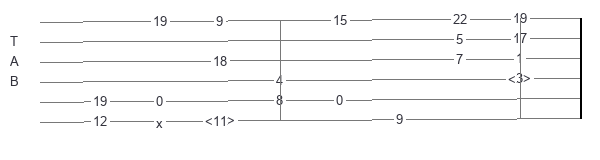0: (156, 93, 167, 107), (336, 93, 347, 107)
1: (516, 53, 527, 67)
12: (93, 113, 111, 127)
15: (333, 13, 351, 27)
17: (513, 33, 531, 47)
18: (213, 53, 231, 67)
19: (93, 93, 111, 107), (153, 13, 171, 27), (513, 13, 531, 27)
22: (453, 13, 471, 27)
4: (276, 73, 287, 87)
5: (456, 33, 467, 47)
7: (456, 53, 467, 67)
8: (276, 93, 287, 107)
9: (216, 13, 227, 27), (396, 113, 407, 127)
harmonic: (205, 113, 239, 127), (508, 73, 535, 87)
x: (156, 115, 167, 126)
